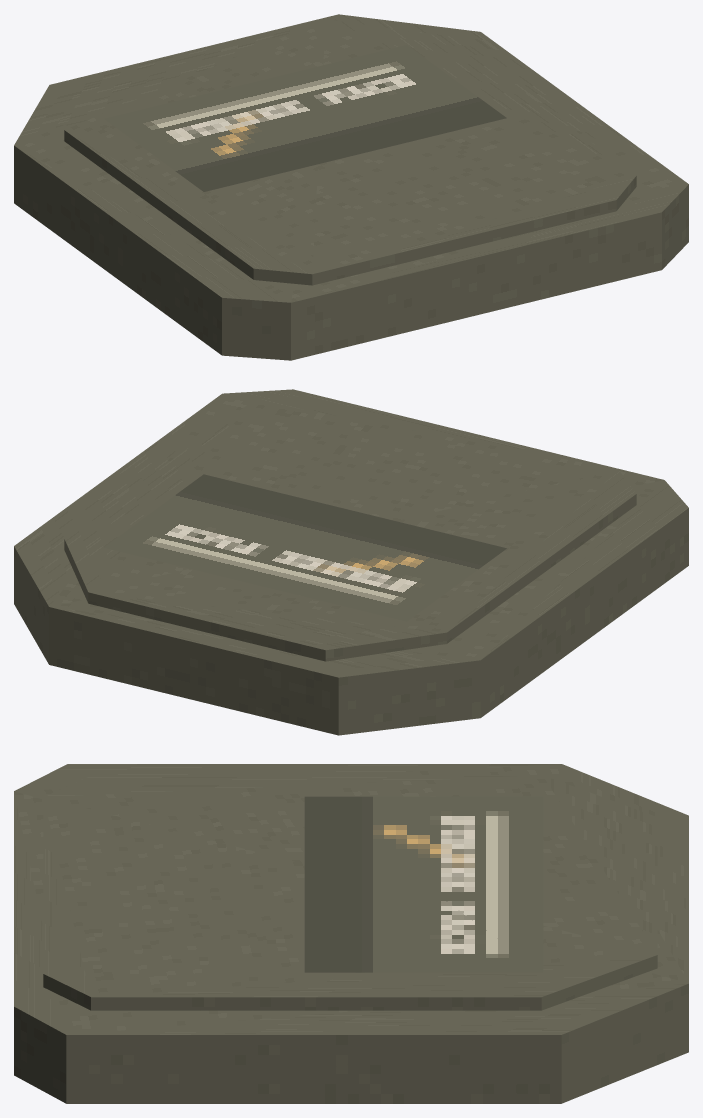
The model's file is esapi_plate.glb.
3 views of the same model, one above another, from view 1: azimuth 30°, elevation 25°; view 2: azimuth 150°, elevation 25°; view 3: azimuth 270°, elevation 25° (orthographic). The views are drawn at different scales.
Visible parts, largest first — view 1: block_raised outer surface, block_shaped protective panel, block_orientation marking; view 2: block_raised outer surface, block_shaped protective panel, block_orientation marking; view 3: block_raised outer surface, block_shaped protective panel, block_orientation marking.
Part boxes in pixels (x1,y1,x2,y2): block_raised outer surface: [64, 19, 636, 285]; block_shaped protective panel: [14, 14, 688, 360]; block_orientation marking: [104, 45, 506, 191]; block_raised outer surface: [64, 395, 636, 661]; block_shaped protective panel: [14, 389, 688, 735]; block_orientation marking: [104, 474, 506, 621]; block_raised outer surface: [43, 775, 657, 1010]; block_shaped protective panel: [14, 764, 688, 1103]; block_orientation marking: [304, 796, 543, 972].
Size of the model in its own units: 0.3039 by 0.0439 by 0.32.
Materials: 1 (1 with a texture image).
